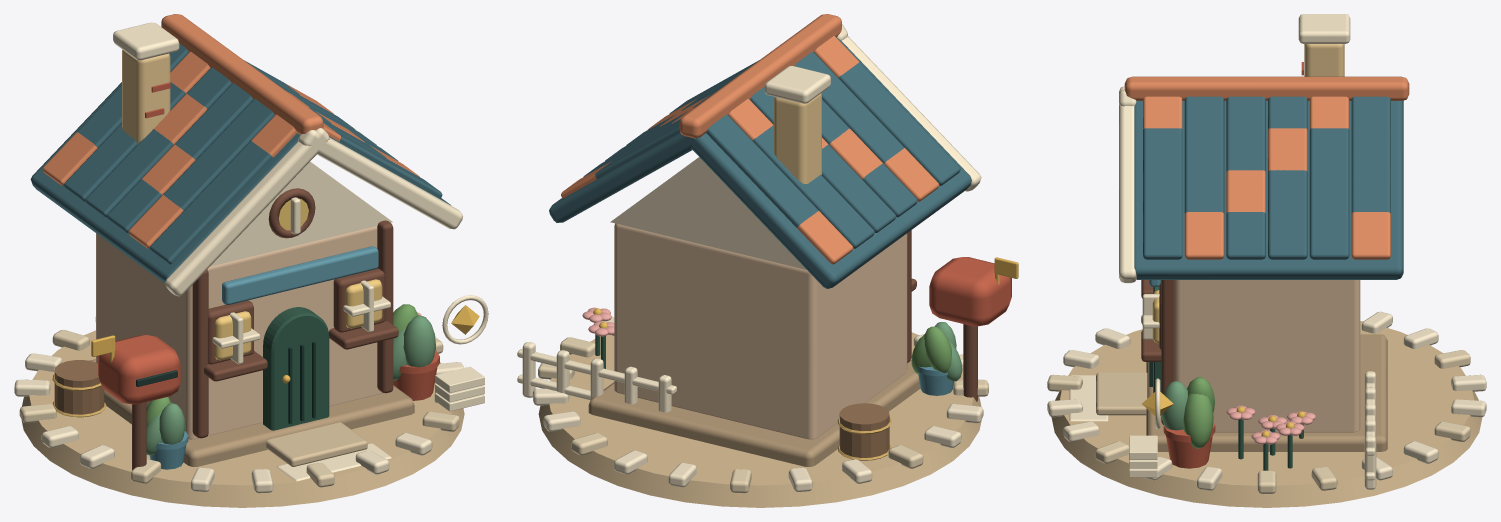
The model's file is mail.glb.
3 views of the same model, side by side, from view 1: azimuth 30°, elevation 25°; view 2: azimuth 150°, elevation 25°; view 3: azimuth 270°, elevation 25° (orthographic). The views are drawn at different scales.
Parts seen in each view (by area): view 1: building-mail, landmark-mail, Blender_detail_RainBarrel, treasure-mail; view 2: building-mail, landmark-mail, Blender_detail_RainBarrel; view 3: building-mail, landmark-mail, treasure-mail.
Boxes of the visible parts, bbox=[...] form: building-mail: bbox=[30, 14, 484, 481]; landmark-mail: bbox=[14, 317, 464, 507]; Blender_detail_RainBarrel: bbox=[54, 360, 104, 414]; treasure-mail: bbox=[442, 295, 488, 344]; building-mail: bbox=[517, 14, 1018, 466]; landmark-mail: bbox=[532, 316, 988, 507]; Blender_detail_RainBarrel: bbox=[839, 403, 889, 457]; building-mail: bbox=[1069, 14, 1409, 489]; landmark-mail: bbox=[1047, 311, 1486, 507]; treasure-mail: bbox=[1142, 378, 1173, 429].
Size of the model in its own units: 1.56 by 1.39 by 1.53.
